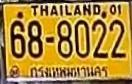0: (74, 19, 89, 57)
2: (109, 19, 124, 57), (92, 20, 106, 58)
6: (10, 20, 25, 57)
8: (57, 20, 72, 57), (27, 20, 42, 57)
BKK: (26, 63, 111, 80)
